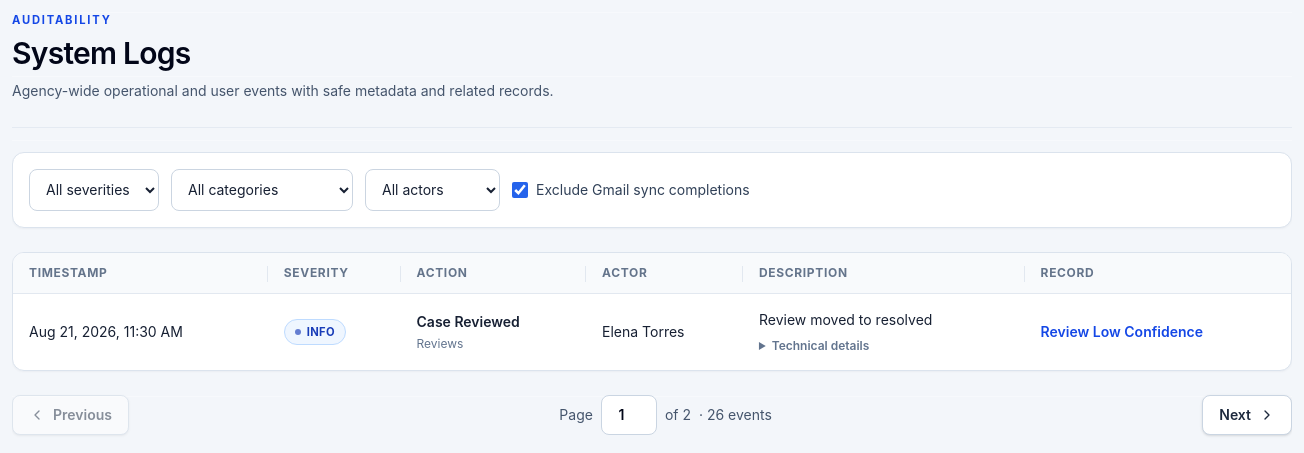
Test case: SystemLogsPage › excludes Gmail sync completions by default and resets that filter
The width and height of the screenshot is (1304, 453).
Check: the checkbox labelled "Exclude Gmail sync completions" is checked, box [512,182,528,198]
Click the button "Next".
click(1247, 415)  # box [1202,395,1292,435]
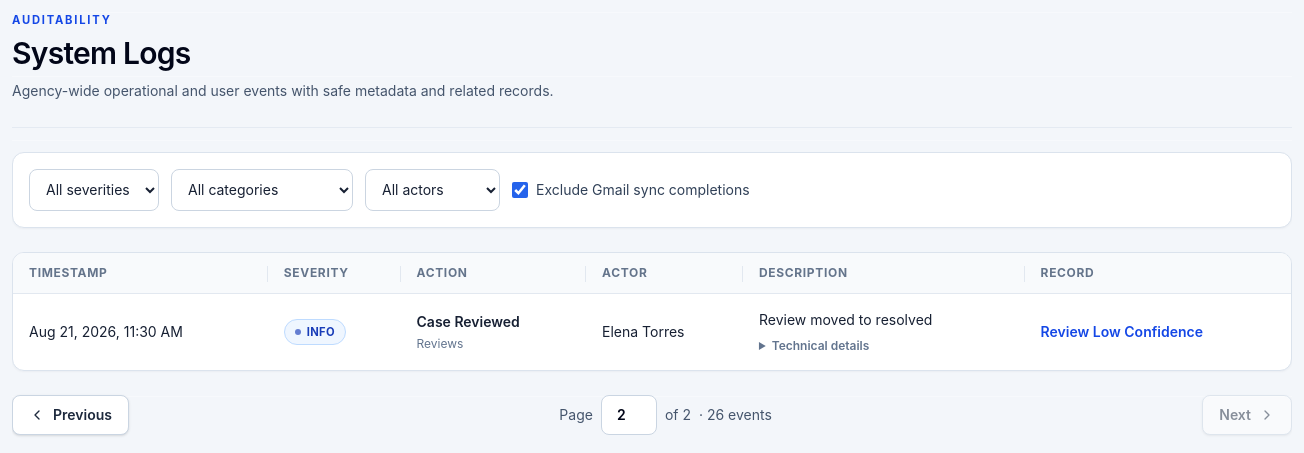
Check: the number field named "Go to page" holds "2", box [601,395,657,435]
Click the checkbox labelled "Exclude Gmail sync completions".
click(520, 190)  # box [512,182,528,198]
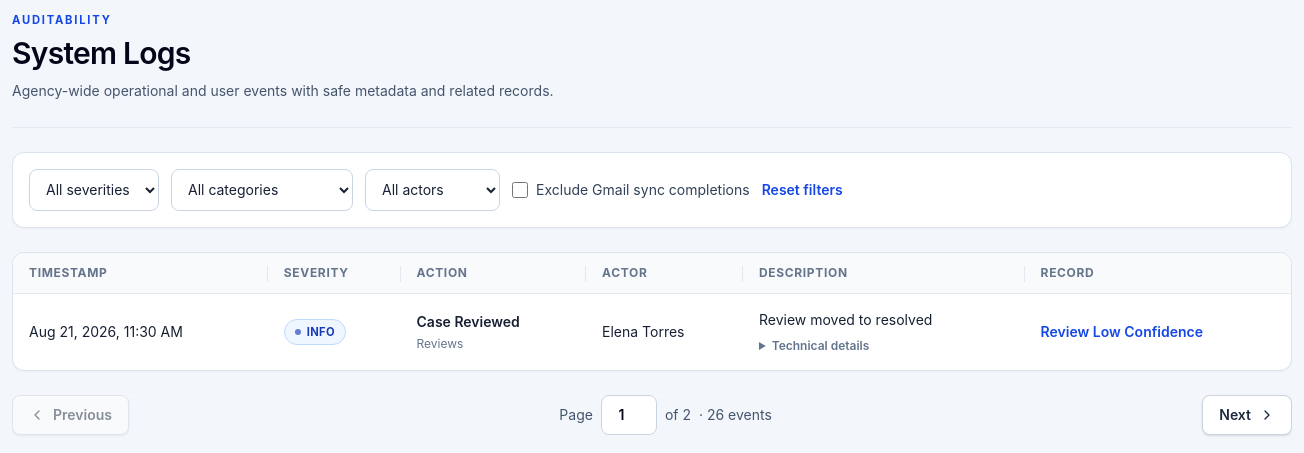
Click the button "Reset filters".
click(802, 190)  # box [762,169,843,211]
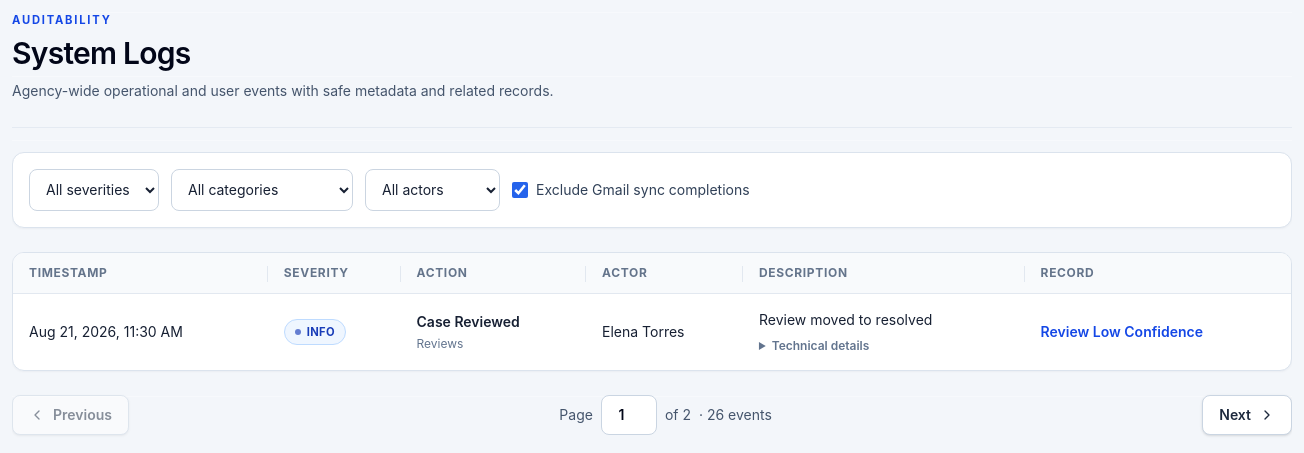
Check: the checkbox labelled "Exclude Gmail sync completions" is checked, box [512,182,528,198]
